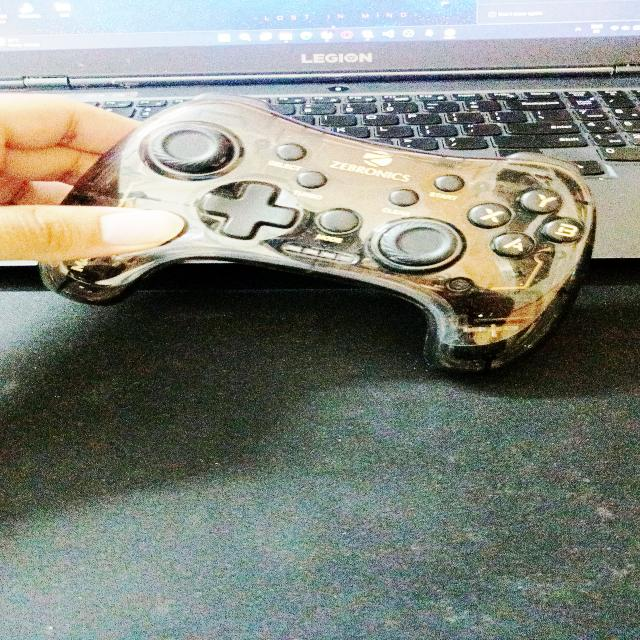gamepad: (36, 93, 597, 375)
